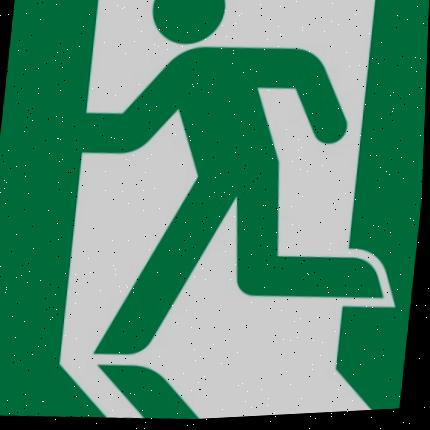emergency_exit: (1, 0, 428, 421)
